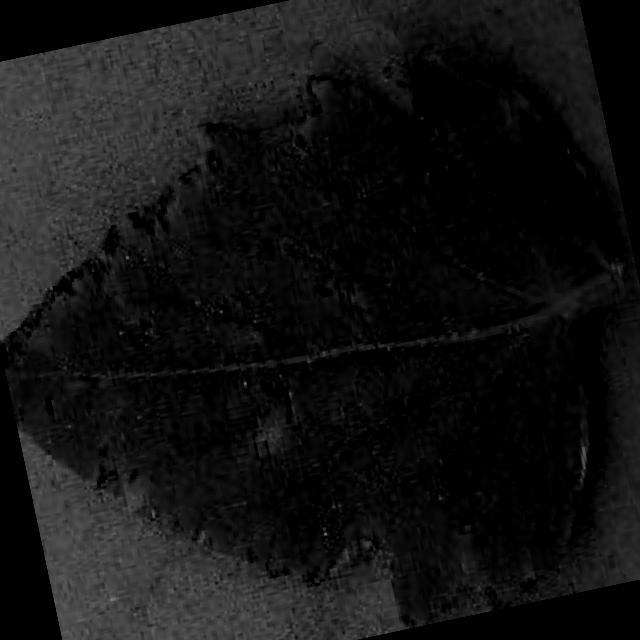bacterial spot: (0, 48, 629, 629)
